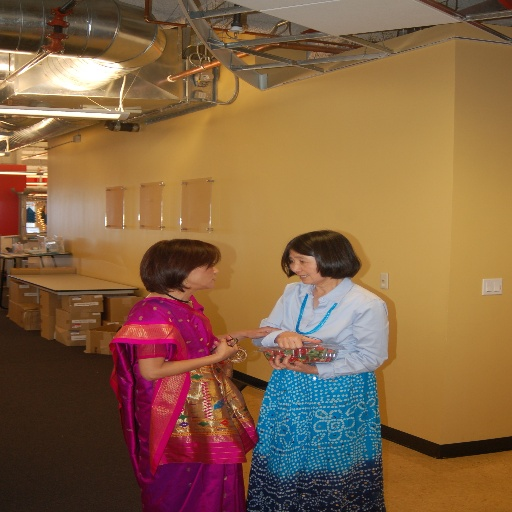hand: (265, 351, 316, 373), (274, 330, 325, 351), (211, 333, 240, 361), (239, 325, 282, 339)
